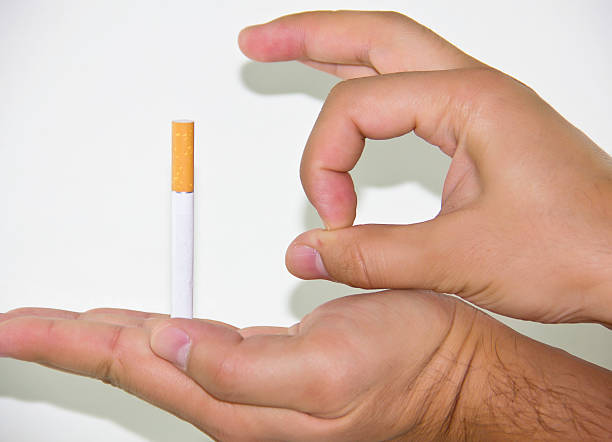cigarette: (171, 120, 195, 317)
